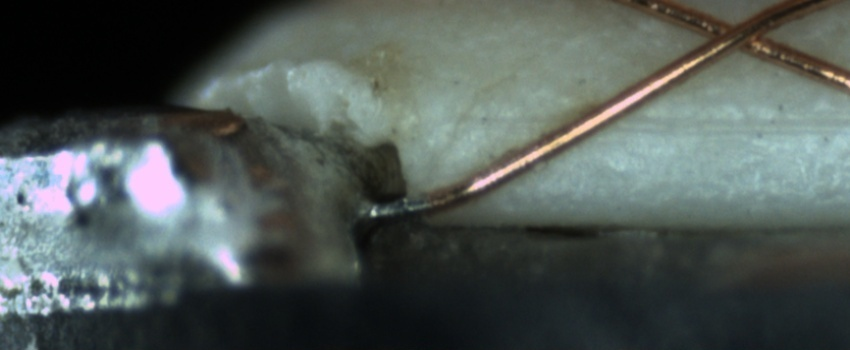CL: (688, 4, 796, 63)
DL: (455, 93, 849, 157)
TS: (367, 197, 436, 222)
